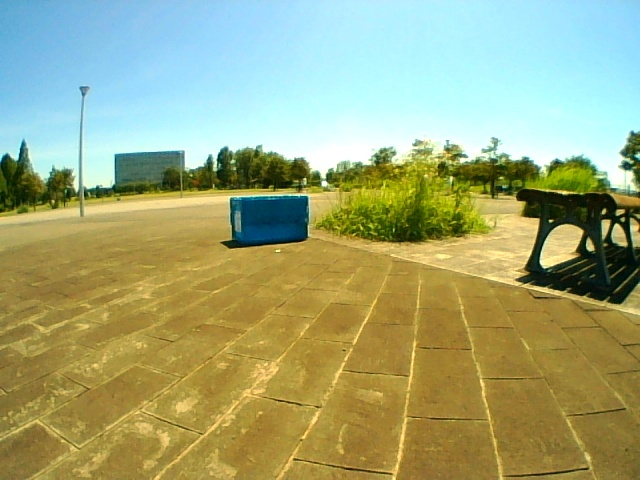blue_box: (231, 198, 308, 242)
tag: (234, 211, 241, 231)
